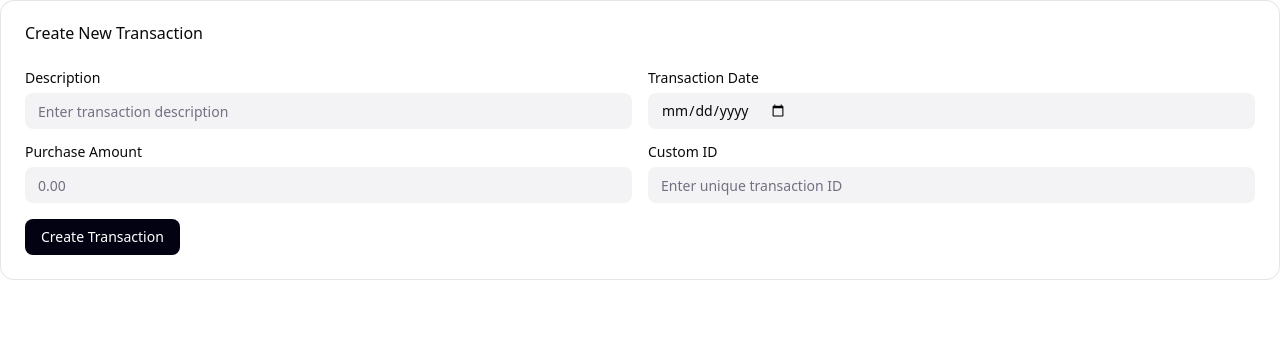
Test: TransactionForm › shows validation error for invalid amount
This screenshot has width=1280, height=353.
Type "-10" into the number field labelled "Purchase Amount" at (328, 185), box [25, 167, 632, 203]
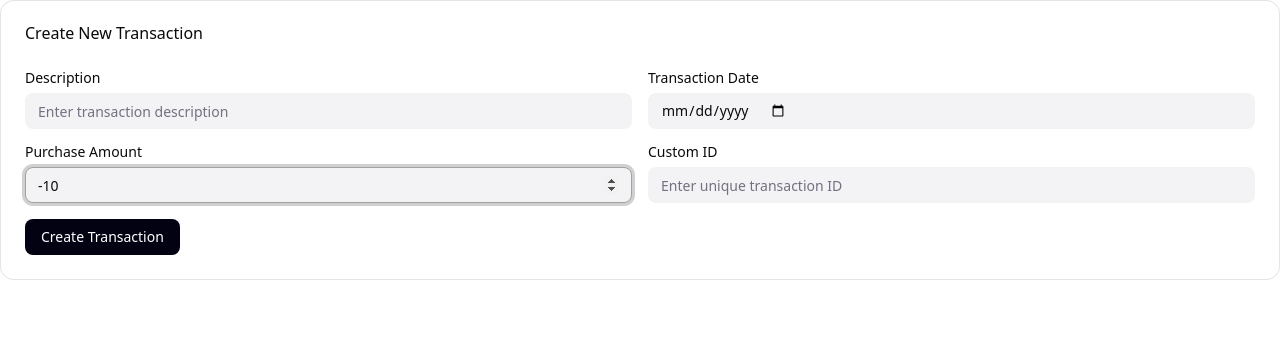
Click the button "Create Transaction" at (102, 237), box [25, 219, 180, 255]
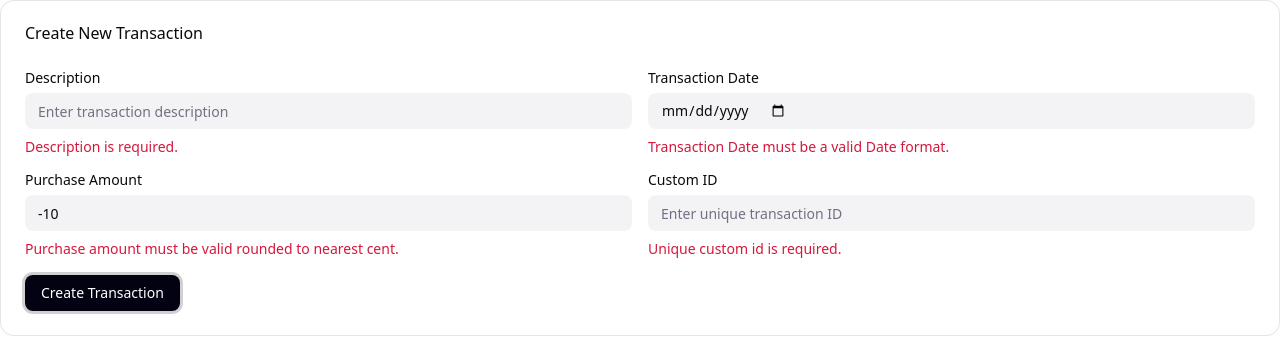
Check: the text "Purchase amount must be valid rounded to nearest cent." is shown, box [25, 239, 399, 258]
